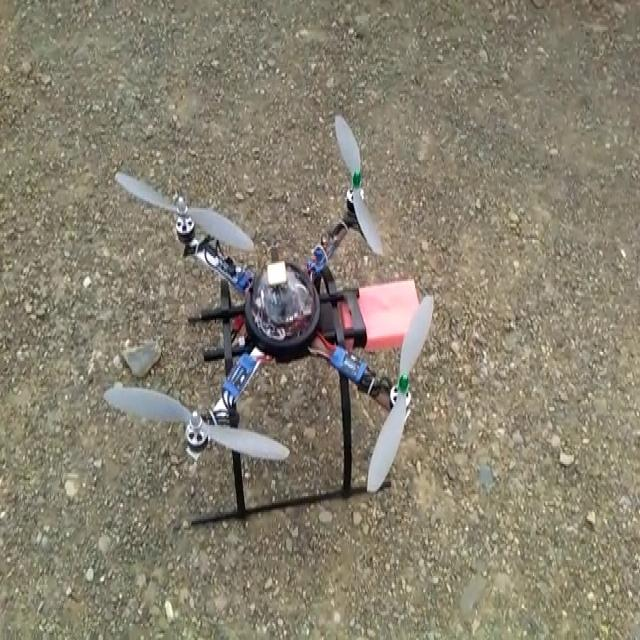drone: (101, 114, 433, 530)
